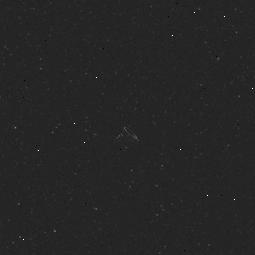debris: (113, 126, 146, 147)
